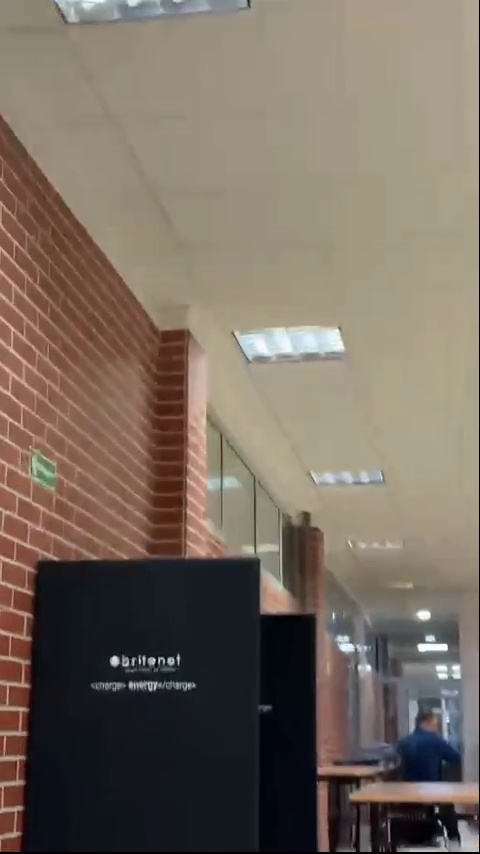no vest: (396, 710, 454, 777)
